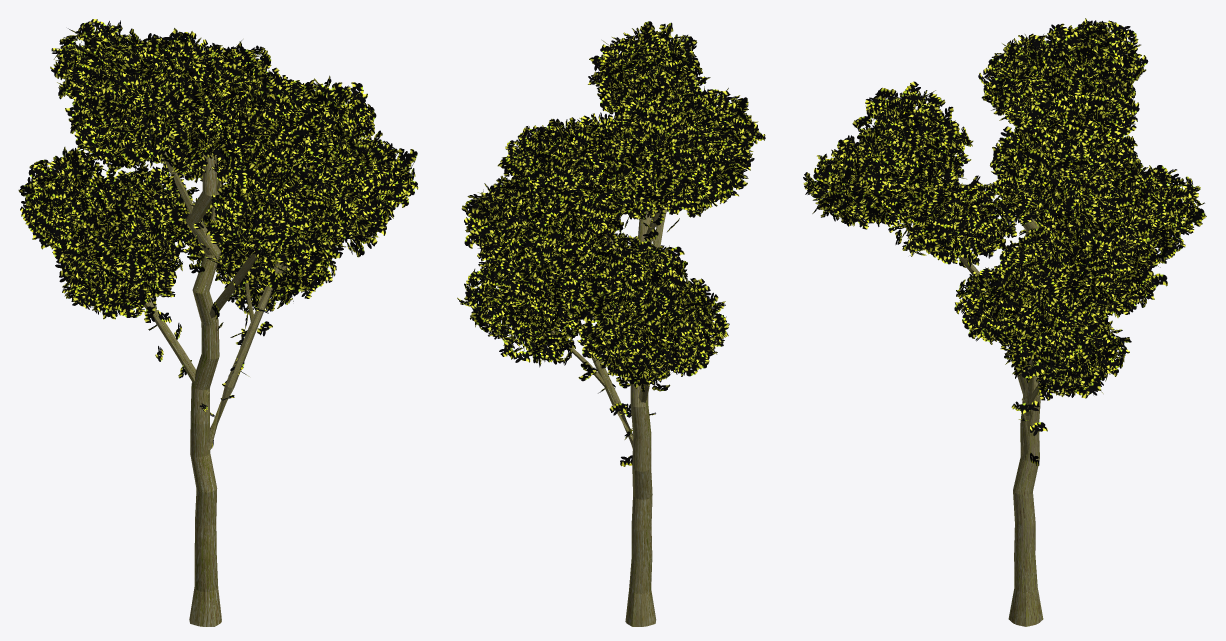
File: cottonwood_river_v01.fbx
3 views of the same model, side by side, from view 1: azimuth 30°, elevation 25°; view 2: azimuth 150°, elevation 25°; view 3: azimuth 270°, elevation 25° (orthographic). The views are drawn at different scales.
Visible parts, largest first — view 1: cottonwood_river_v01; view 2: cottonwood_river_v01; view 3: cottonwood_river_v01.
Boxes of the visible parts, box(x1,y1,x2,y2) form: cottonwood_river_v01: box(18, 19, 418, 626); cottonwood_river_v01: box(457, 21, 765, 626); cottonwood_river_v01: box(803, 18, 1206, 626).
Size of the model in its own units: 1691 by 2008 by 3075.
2 materials, 2 textured.
